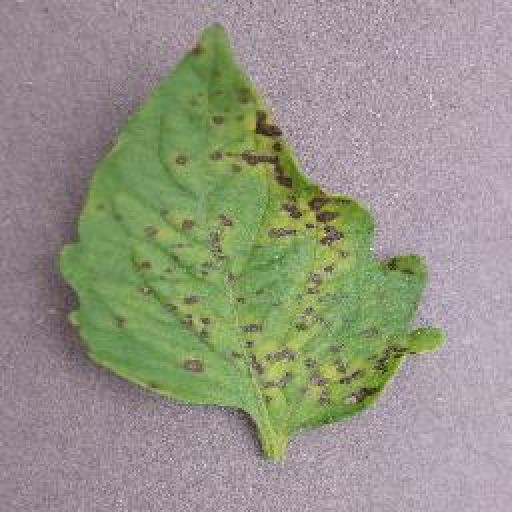disease_tomato: (63, 20, 448, 433)
